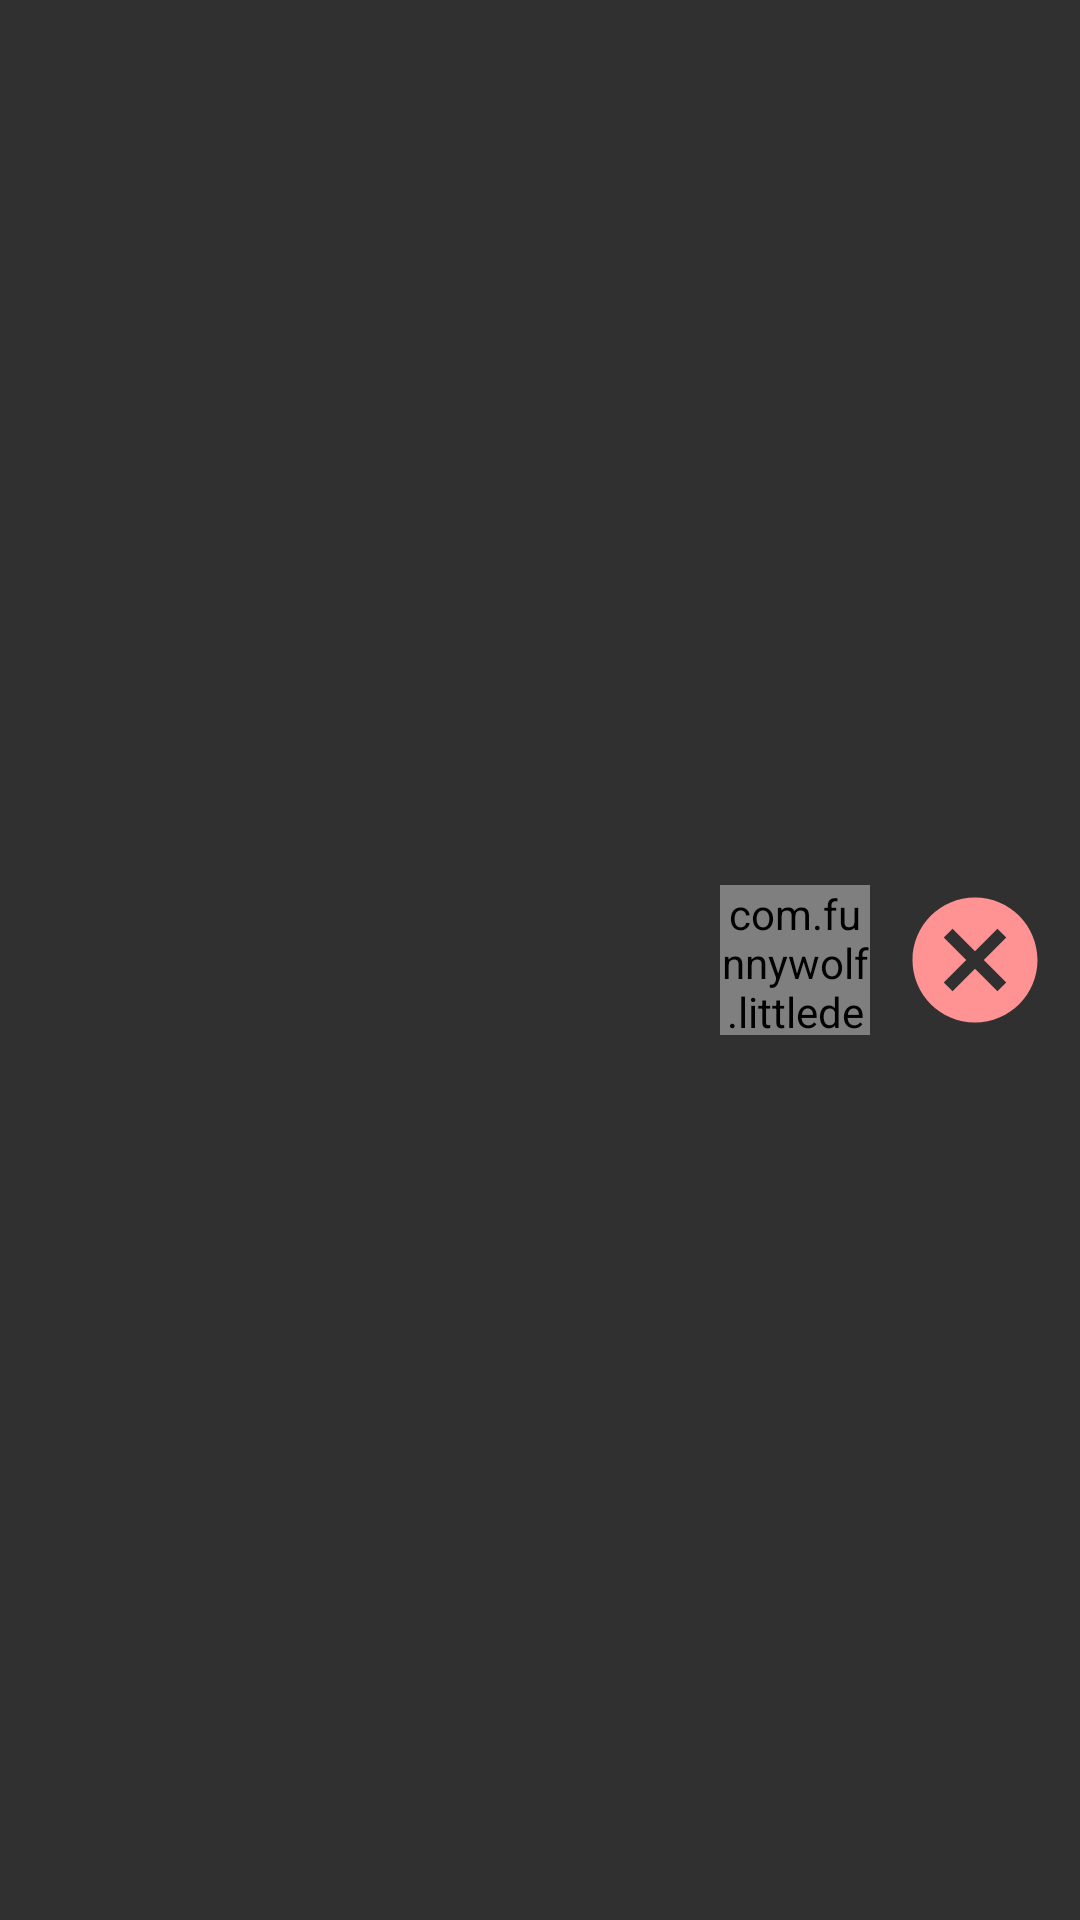

Screen size 1080 × 1920. Icon name, then its box in pixels as bbox=[x1, y1, x2, y2]:
delete: bbox=[912, 897, 1038, 1023]
